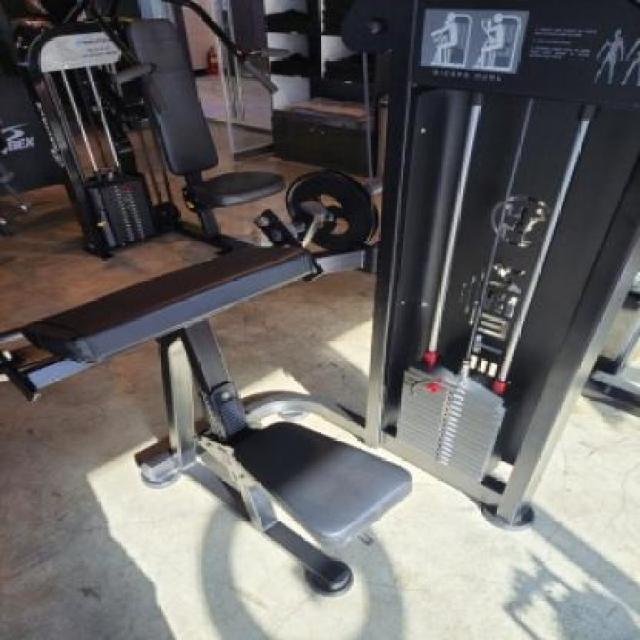arm curl machine: (1, 210, 538, 598)
